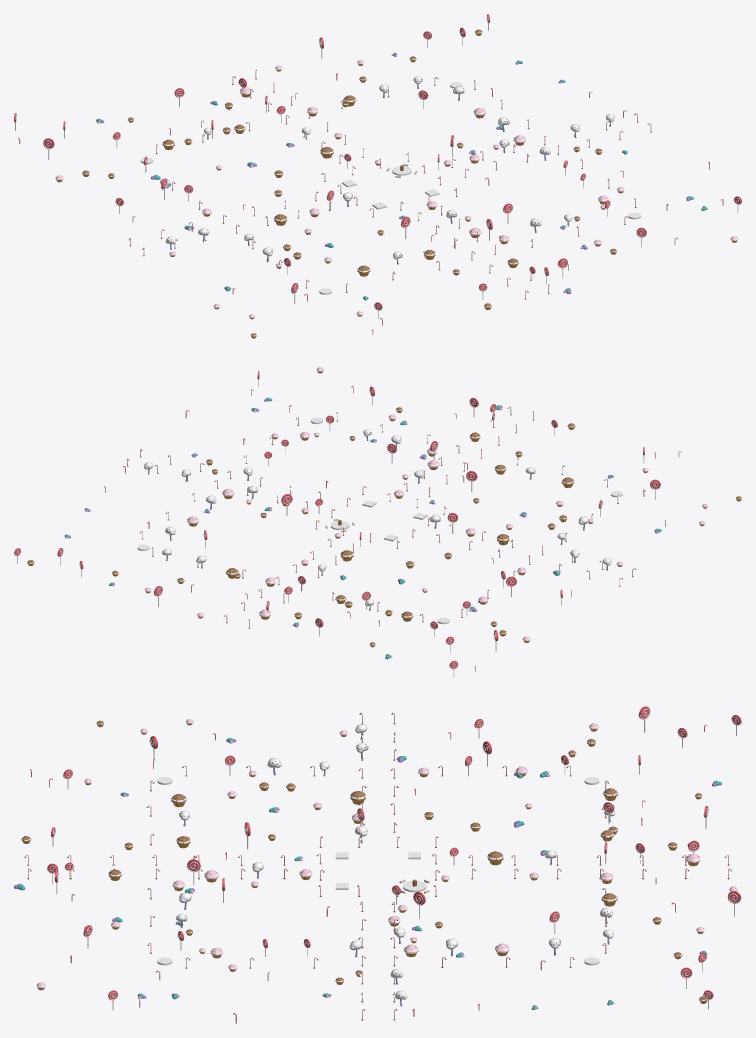
File: GingerbreadVillage_GameplayProps.fbx
The picture shows the model from 3 angles, top to bottom: view 1: azimuth 30°, elevation 25°; view 2: azimuth 150°, elevation 25°; view 3: azimuth 270°, elevation 25°; orthographic projection. The views are drawn at different scales.
Size of the model in its own units: 334 by 16.87 by 341.
